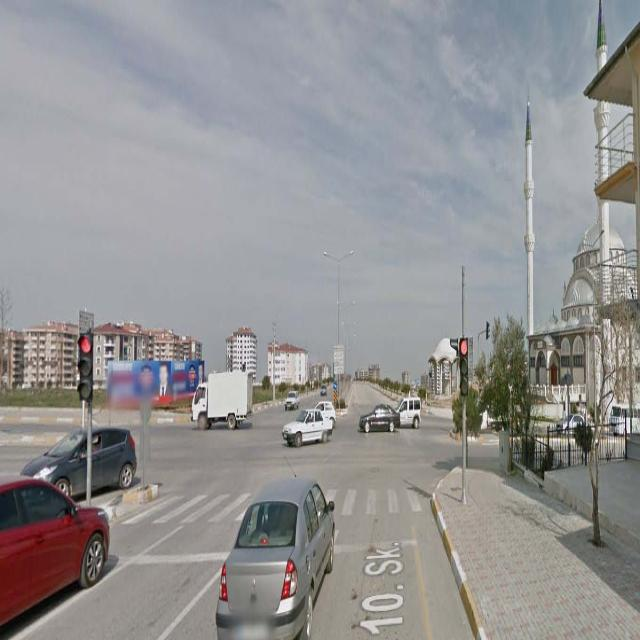kirmizi: (78, 333, 92, 401), (459, 336, 468, 397)
